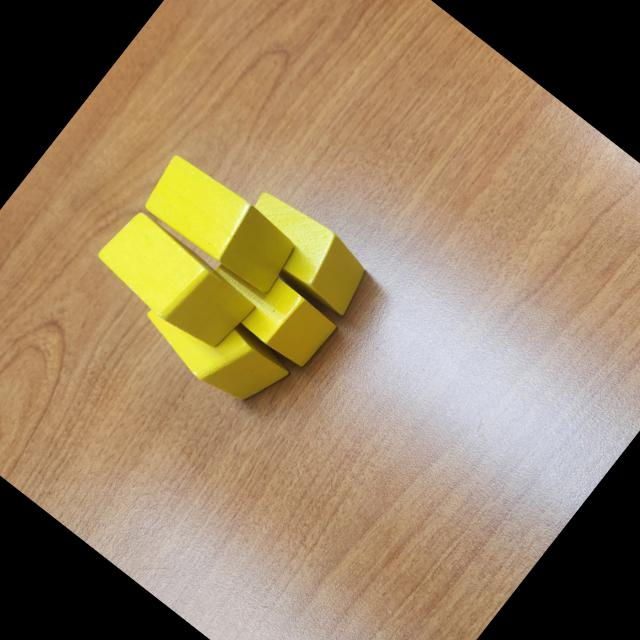yellow: (89, 204, 261, 360), (136, 148, 304, 302), (134, 276, 296, 424), (227, 182, 380, 322), (195, 240, 341, 374)
